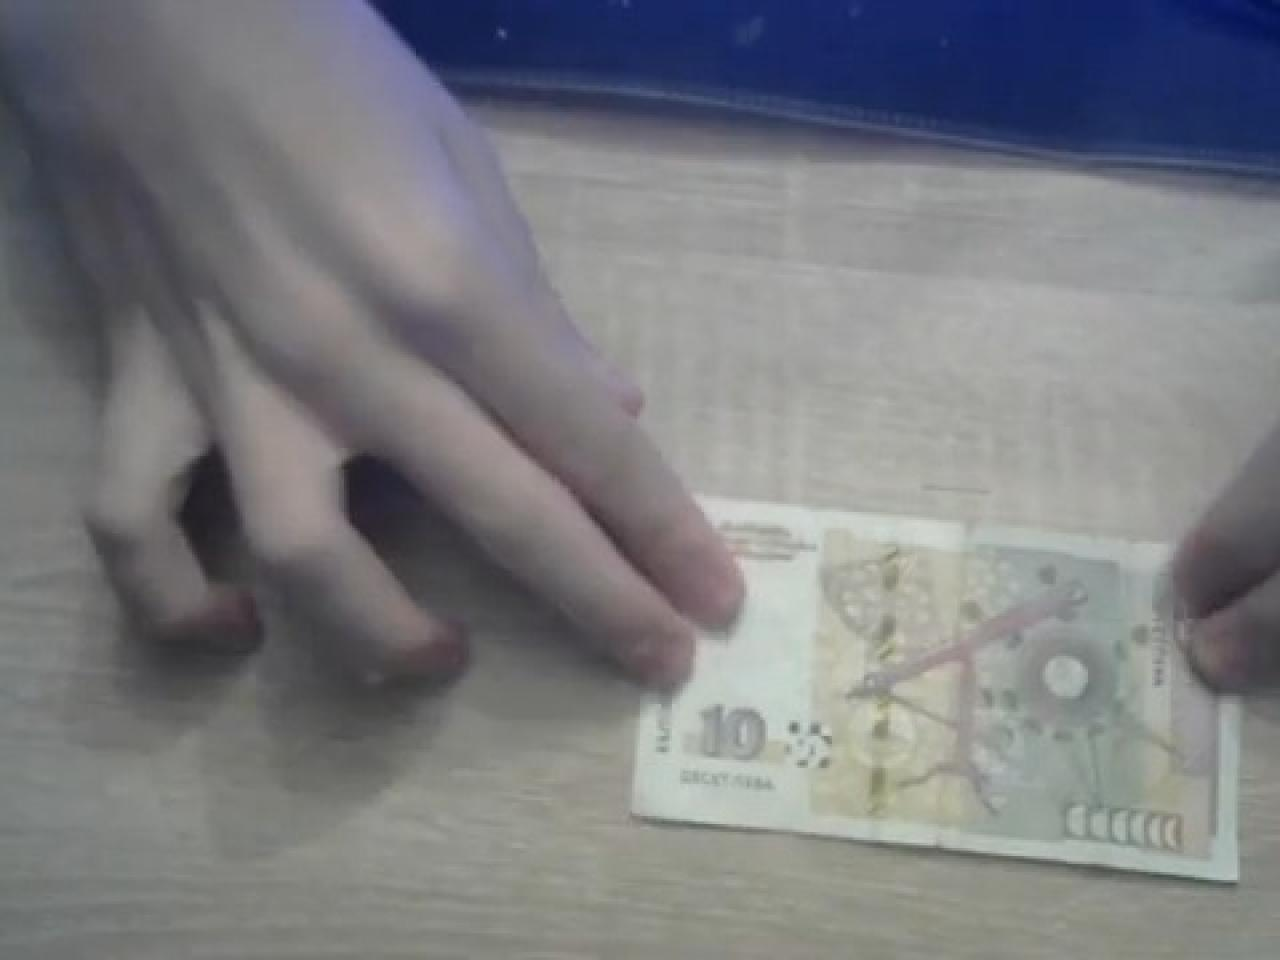10leva: (629, 496, 1246, 890)
